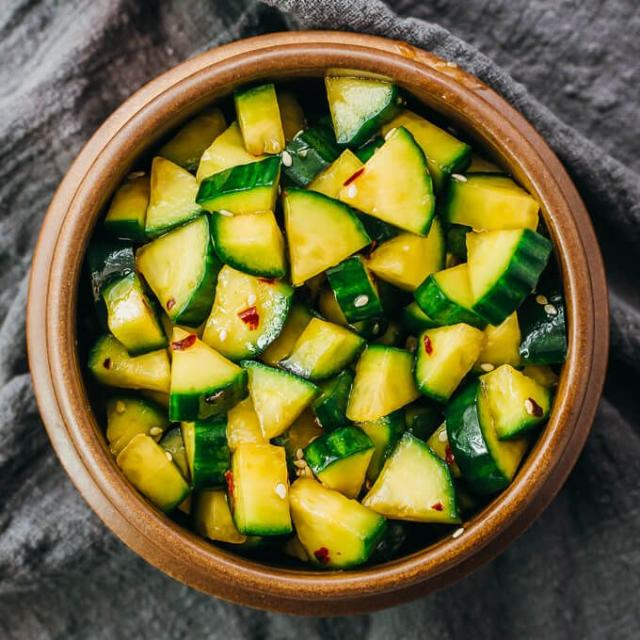Pickle: (339, 126, 435, 236), (135, 215, 220, 326), (282, 188, 371, 286), (169, 328, 248, 421), (368, 219, 445, 292), (280, 318, 365, 381), (211, 210, 286, 278)
